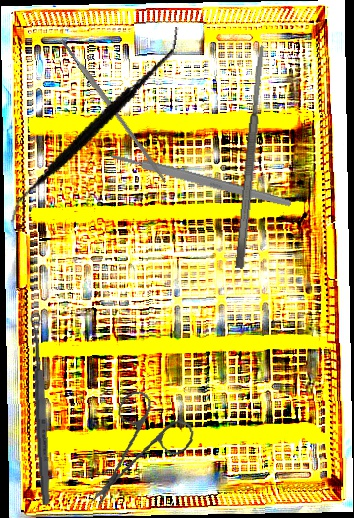Iris Scissors: (75, 383, 203, 509)
Scalpel Handle: (59, 37, 169, 184), (109, 150, 293, 209)
Spatula Surgical: (8, 1, 180, 249), (233, 44, 269, 270)
Surgical Spoon: (29, 312, 53, 506)
